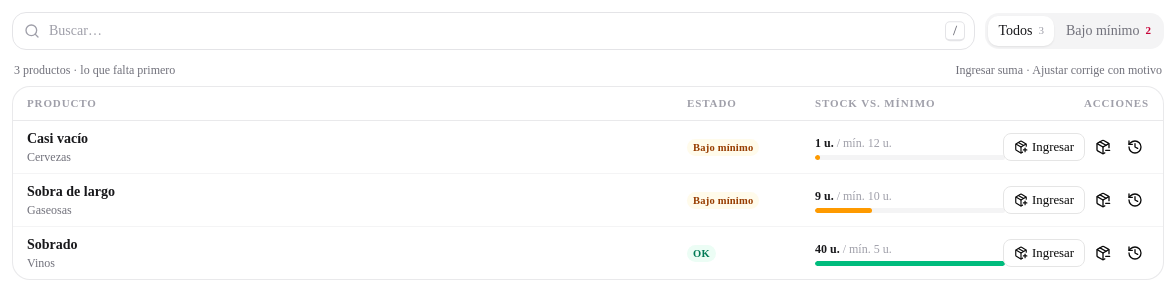
StockList (spec 205 · D12) › el segmentado «Bajo mínimo» deja sólo lo que no está OK
Step 1. Click the button "Bajo mínimo 2" → (1108, 31), box [1056,16,1161,46]
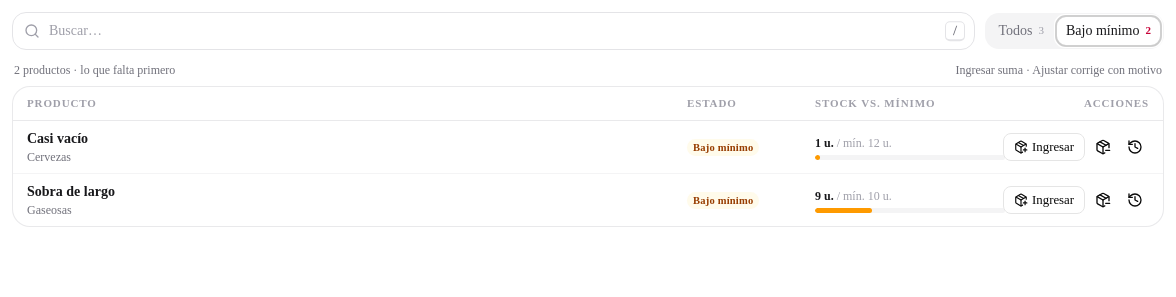
Expected: the text "Casi vacío" is shown, [27,131,88,146]
Result: the text "Sobrado" is gone
